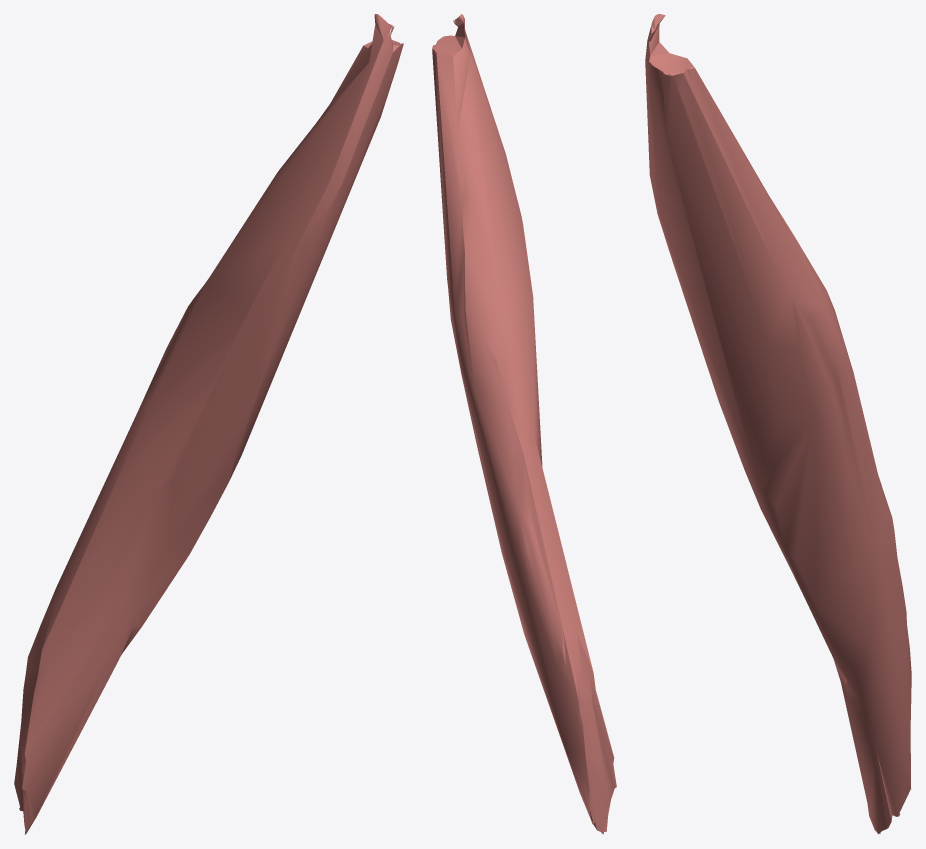
File: fma37665_fj1488.glb
3 renders of one model, left to right at view 1: azimuth 30°, elevation 25°; view 2: azimuth 150°, elevation 25°; view 3: azimuth 270°, elevation 25°, orthographic. The views are drawn at different scales.
Parts seen in each view (by area): view 1: FMA37665_FJ1488; view 2: FMA37665_FJ1488; view 3: FMA37665_FJ1488.
Boxes of the visible parts, x1,y1,x2,y2 form: FMA37665_FJ1488: (14, 14, 403, 834); FMA37665_FJ1488: (432, 14, 616, 834); FMA37665_FJ1488: (645, 14, 911, 834).
Bounding box in the file's own units: 0.0593 × 0.1577 × 0.0393.
